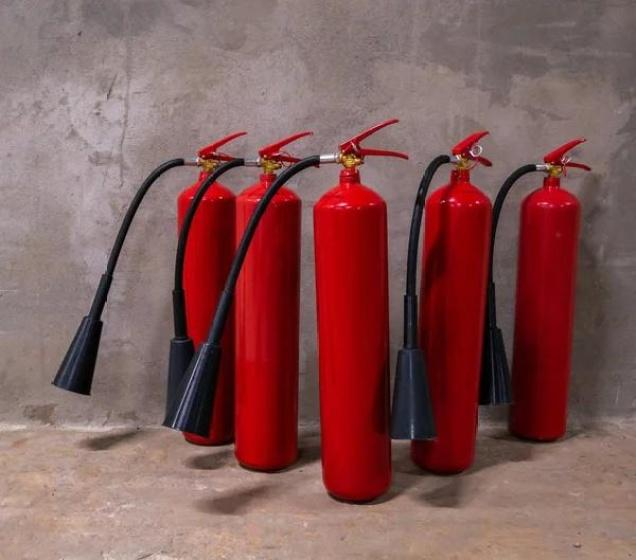APAR: (312, 118, 407, 504), (228, 131, 316, 471), (409, 131, 495, 475), (509, 135, 590, 442), (171, 130, 238, 444)
